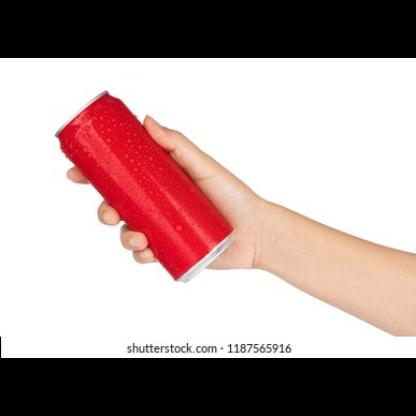Tin_Can: (50, 84, 238, 288)
